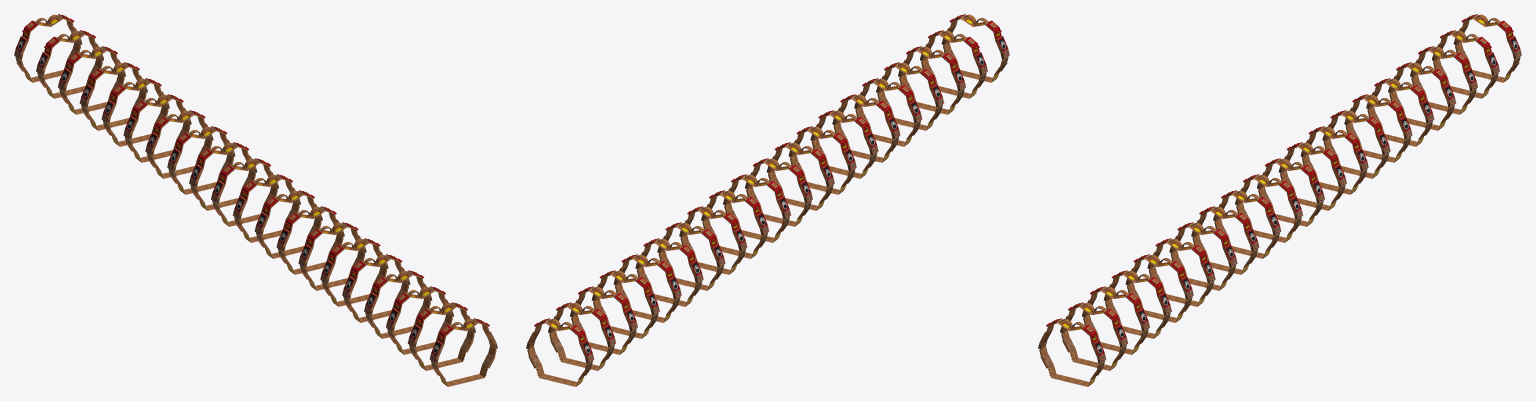
File: SciFIGateArray.obj
3 renders of one model, left to right at view 1: azimuth 30°, elevation 25°; view 2: azimuth 150°, elevation 25°; view 3: azimuth 330°, elevation 25°, orthographic.
Parts seen in each view (by area): view 1: Cube; view 2: Cube; view 3: Cube.
Boxes of the visible parts, box(x1,y1,x2,y2) form: Cube: box(14, 14, 497, 386); Cube: box(526, 14, 1009, 386); Cube: box(1038, 14, 1521, 386).
Bounding box in the file's own units: 125 × 112 × 1444.
Materials: 4 (4 with a texture image).
